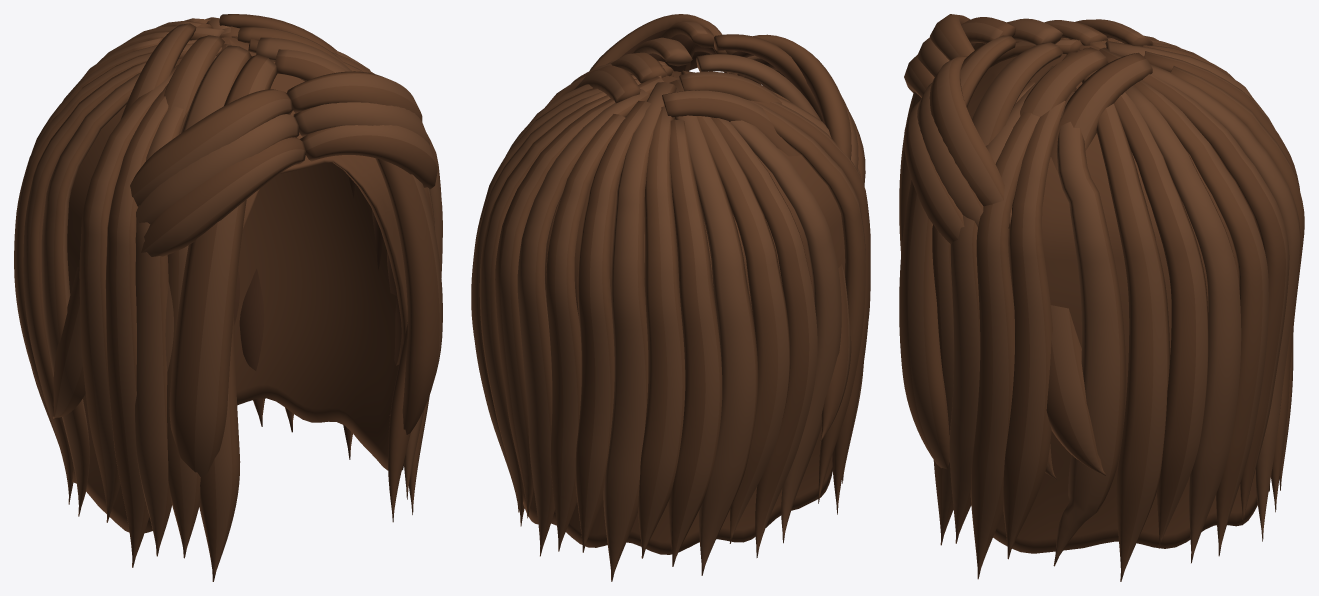
Rendered from corte-feminino-06.glb.
3 views of the same model, side by side, from view 1: azimuth 30°, elevation 25°; view 2: azimuth 150°, elevation 25°; view 3: azimuth 270°, elevation 25° (orthographic). The views are drawn at different scales.
Parts seen in each view (by area): view 1: RCL_Corte_Feminino_06; view 2: RCL_Corte_Feminino_06; view 3: RCL_Corte_Feminino_06.
Boxes of the visible parts, x1=… form: RCL_Corte_Feminino_06: x1=14, y1=14, x2=442, y2=581; RCL_Corte_Feminino_06: x1=471, y1=14, x2=870, y2=581; RCL_Corte_Feminino_06: x1=899, y1=14, x2=1304, y2=581.
Size of the model in its own units: 0.2358 by 0.3044 by 0.2303.
